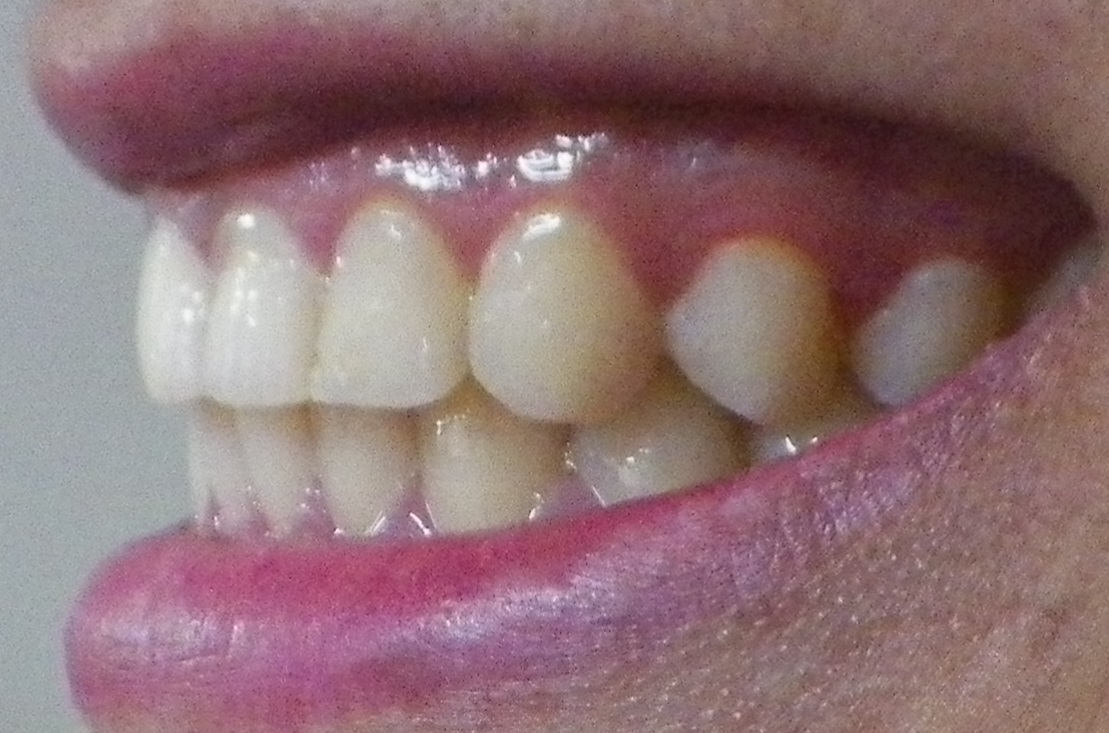boca: (132, 212, 1004, 533)
